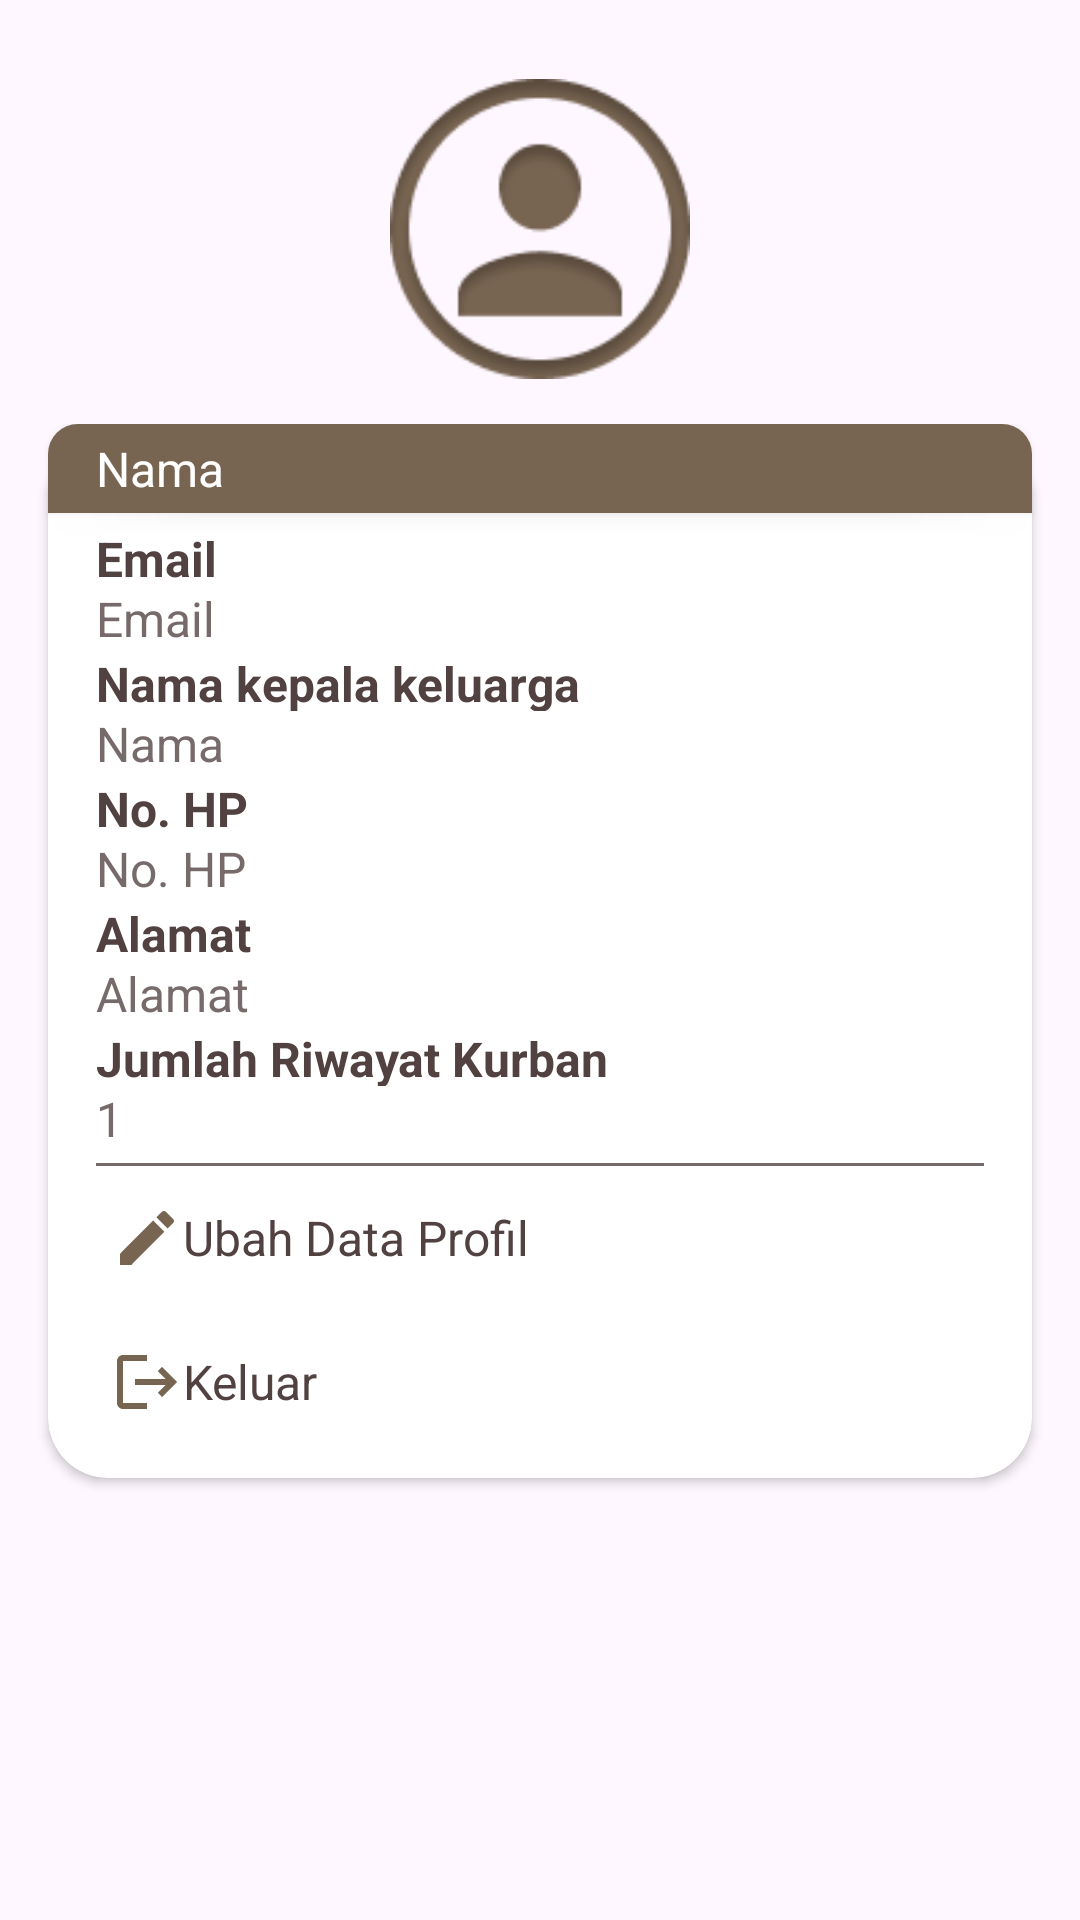

Point at icon controls on the screen. Image size 1080w x 1920h, points as (x=x, y=y).
profile jemaah: (x=540, y=229)
